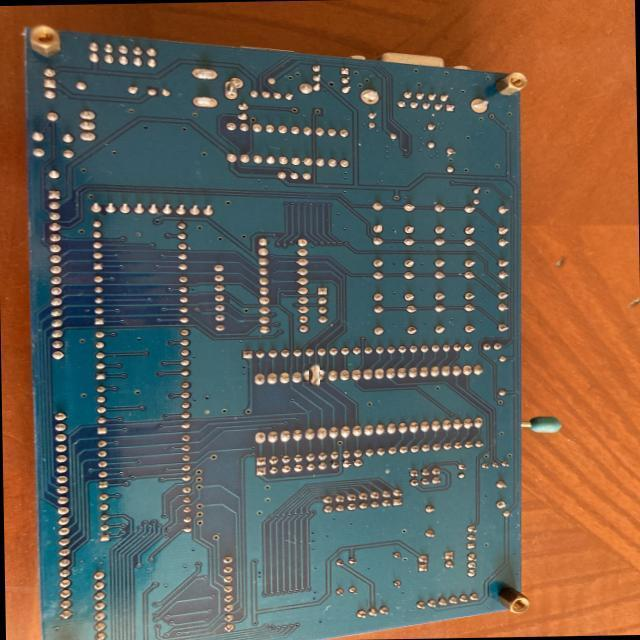damged: (305, 367, 324, 385)
